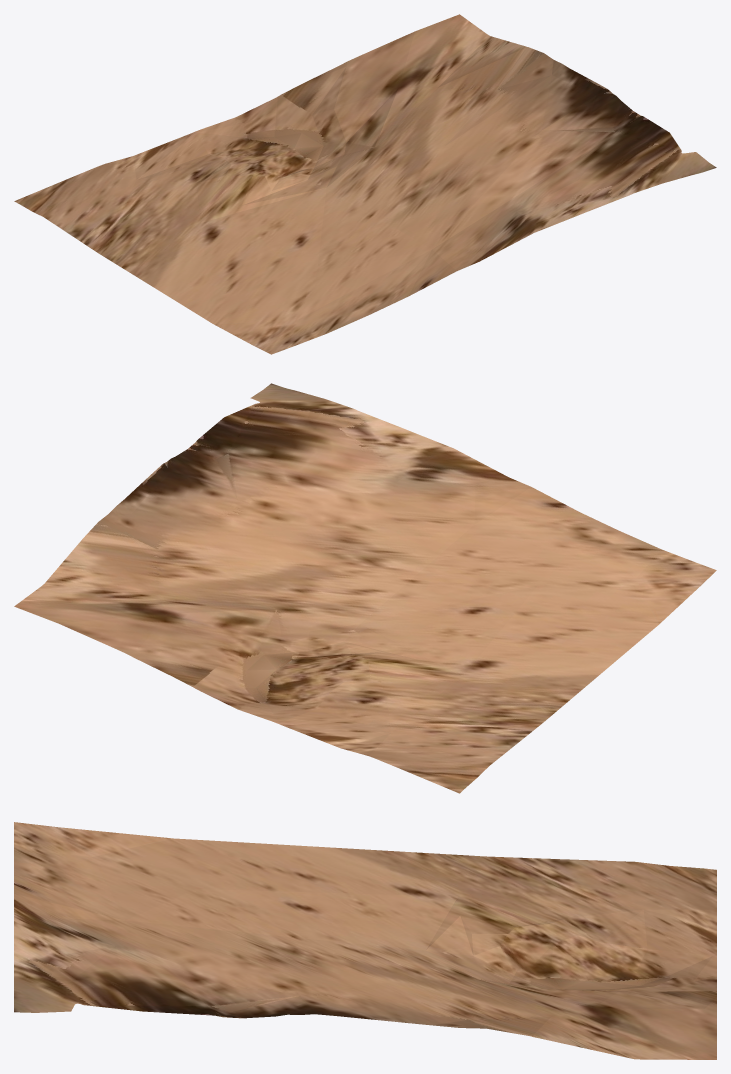
3 renders of one model, top to bottom at view 1: azimuth 30°, elevation 25°; view 2: azimuth 150°, elevation 25°; view 3: azimuth 270°, elevation 25°, orthographic. The views are drawn at different scales.
Size of the model in its own units: 1.04 by 0.2548 by 1.04.
Materials: 2 (2 with a texture image).
